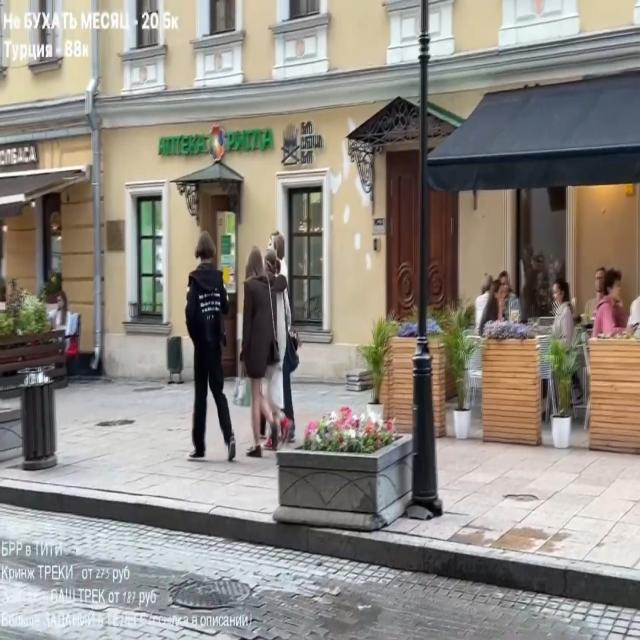Person: (185, 233, 240, 461), (240, 243, 298, 454), (591, 270, 633, 337), (477, 270, 521, 332)
